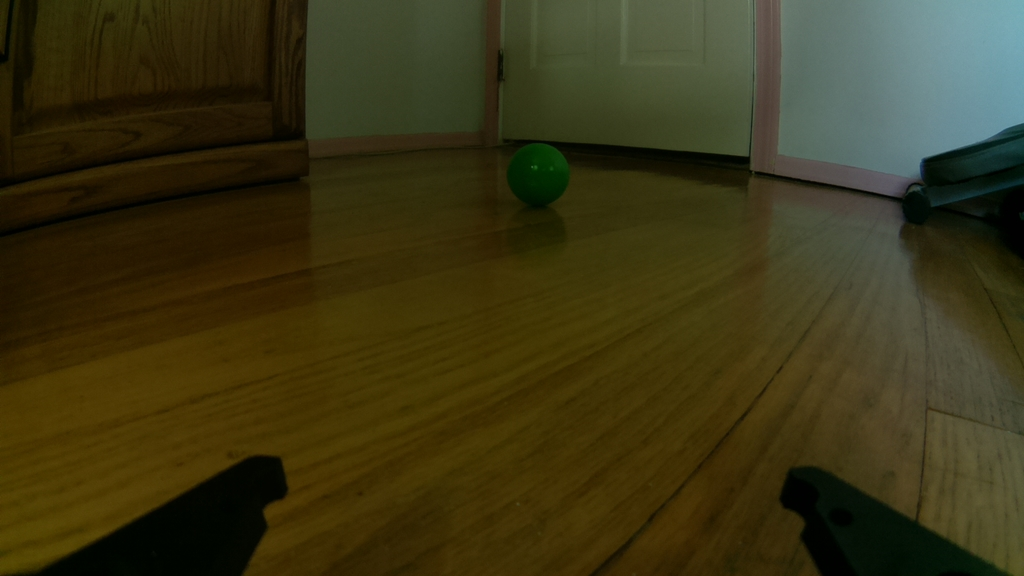ball: (504, 140, 573, 205)
